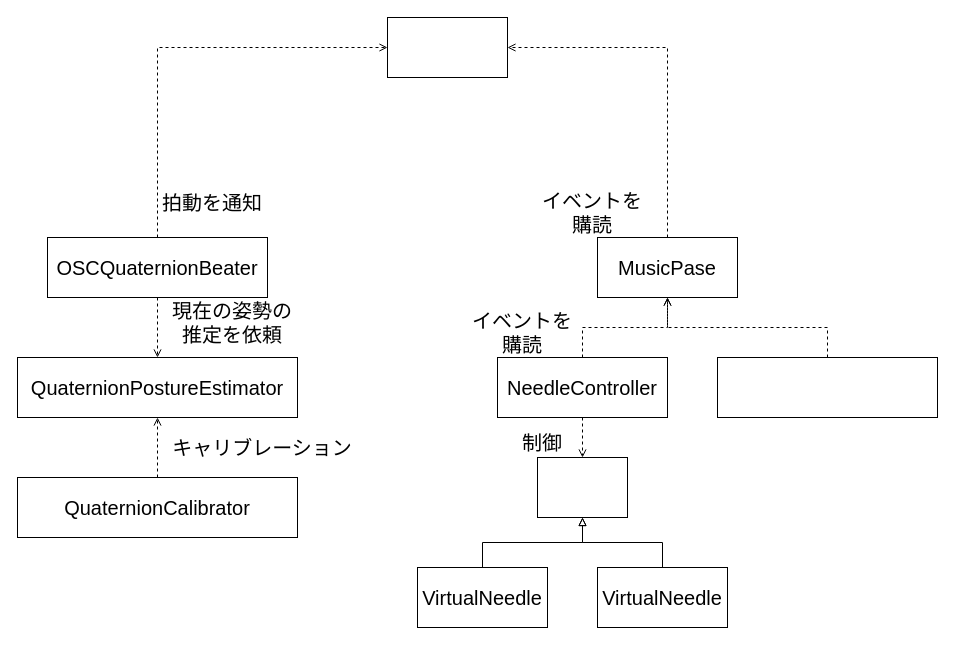
This 955x645 diagram has some shape labels left out. The centre of each missing label's shape, as x and y in pixels:
"AudioSourceController" belongs at point 827,387.
"INeedle" belongs at point 582,487.
"RhythmCore (package)" belongs at point 447,47.
